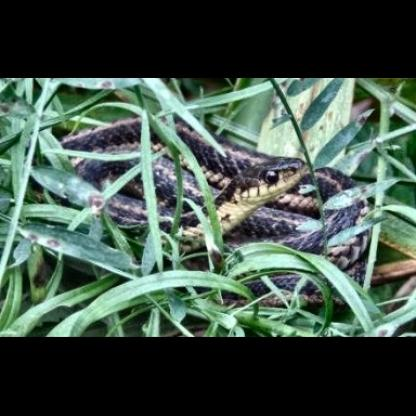Snake: (45, 112, 374, 268)
